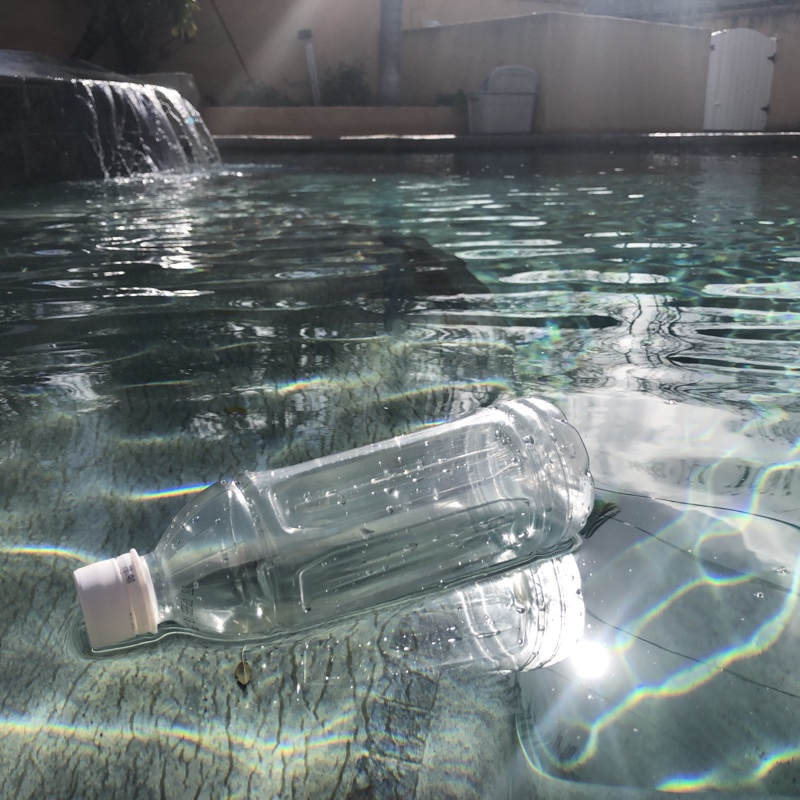Plastic Bottle: (68, 390, 598, 663)
